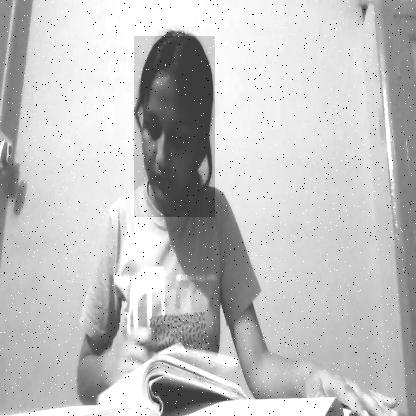Normal: (134, 36, 215, 217)
